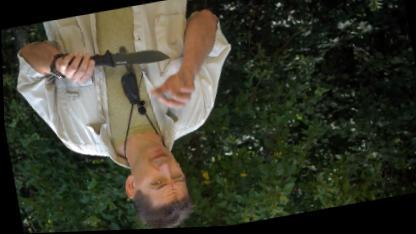knife: (56, 35, 173, 84)
